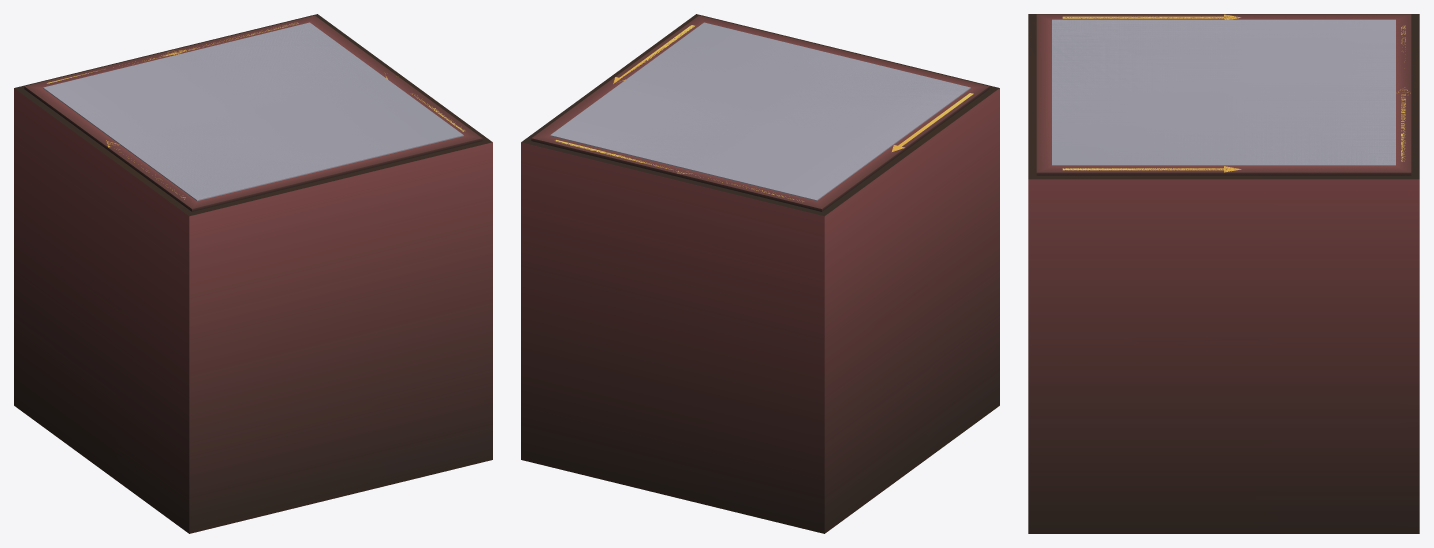
File: Asset_Floor_Cable.fbx
3 renders of one model, left to right at view 1: azimuth 30°, elevation 25°; view 2: azimuth 150°, elevation 25°; view 3: azimuth 270°, elevation 25°, orthographic. The views are drawn at different scales.
Parts seen in each view (by area): view 1: Estructura (×3), Tapa_Cristal (×3); view 2: Estructura (×4), Tapa_Cristal (×3); view 3: Estructura (×4), Tapa_Cristal (×3).
Part boxes in pixels (left/top/right/bottom): Estructura (×3): left=14, top=14, right=492, bottom=533; Tapa_Cristal (×3): left=43, top=22, right=463, bottom=200; Estructura (×4): left=521, top=14, right=999, bottom=533; Tapa_Cristal (×3): left=550, top=22, right=970, bottom=200; Estructura (×4): left=1028, top=14, right=1419, bottom=533; Tapa_Cristal (×3): left=1052, top=19, right=1395, bottom=165.
Bounding box in the file's own units: 100 × 101 × 100.
